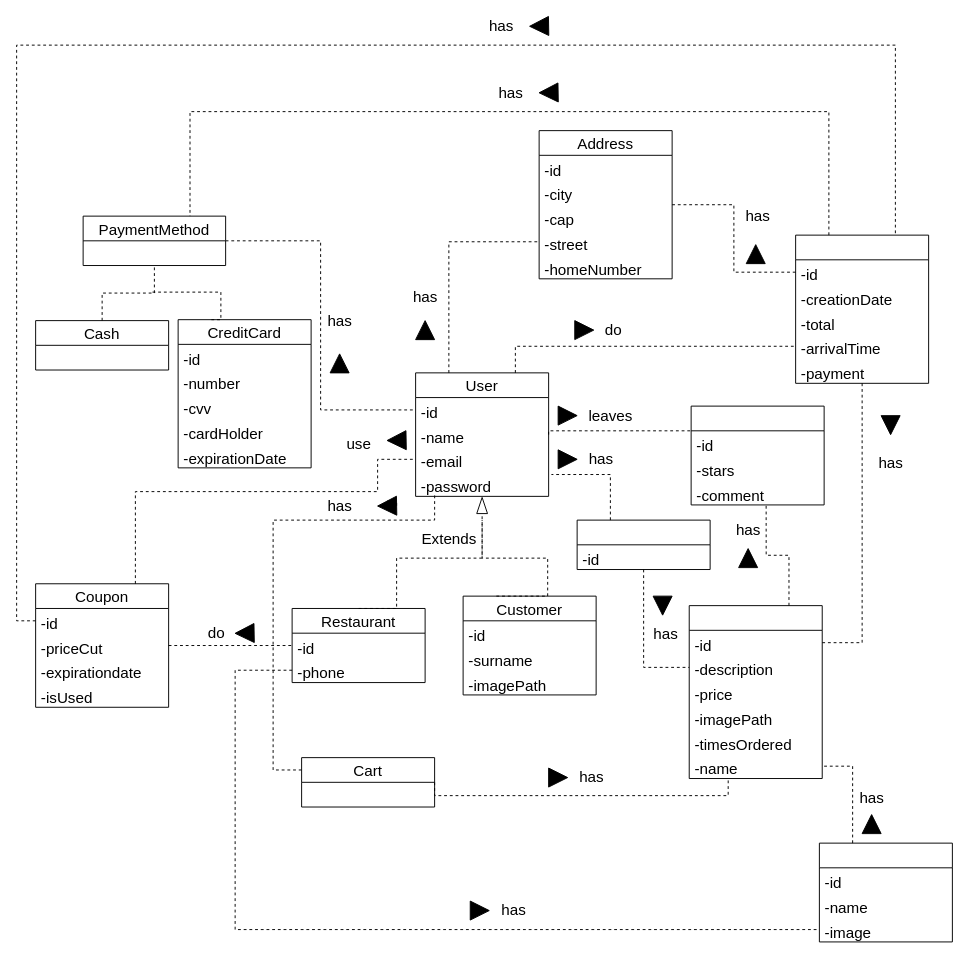
Some shapes in this 969 by 961 pixel diagram are drawn without their labels. The box of each missing label's shape, as (x1, y1, x2, y2) in pixels:
Category: (818, 842, 952, 942)
Favourites: (576, 519, 710, 570)
Order: (795, 234, 929, 383)
Product: (688, 605, 822, 779)
Review: (690, 405, 824, 505)
